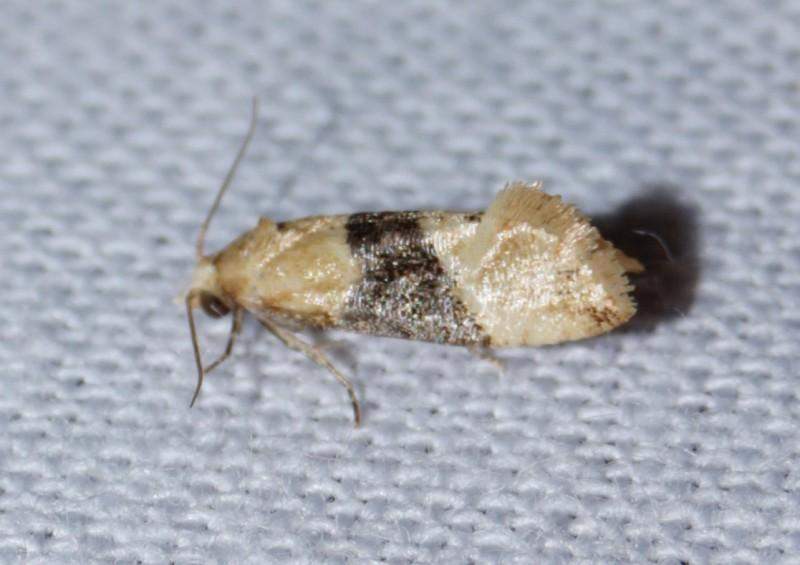Eupoecilia Ambiguella: (180, 95, 646, 430)
